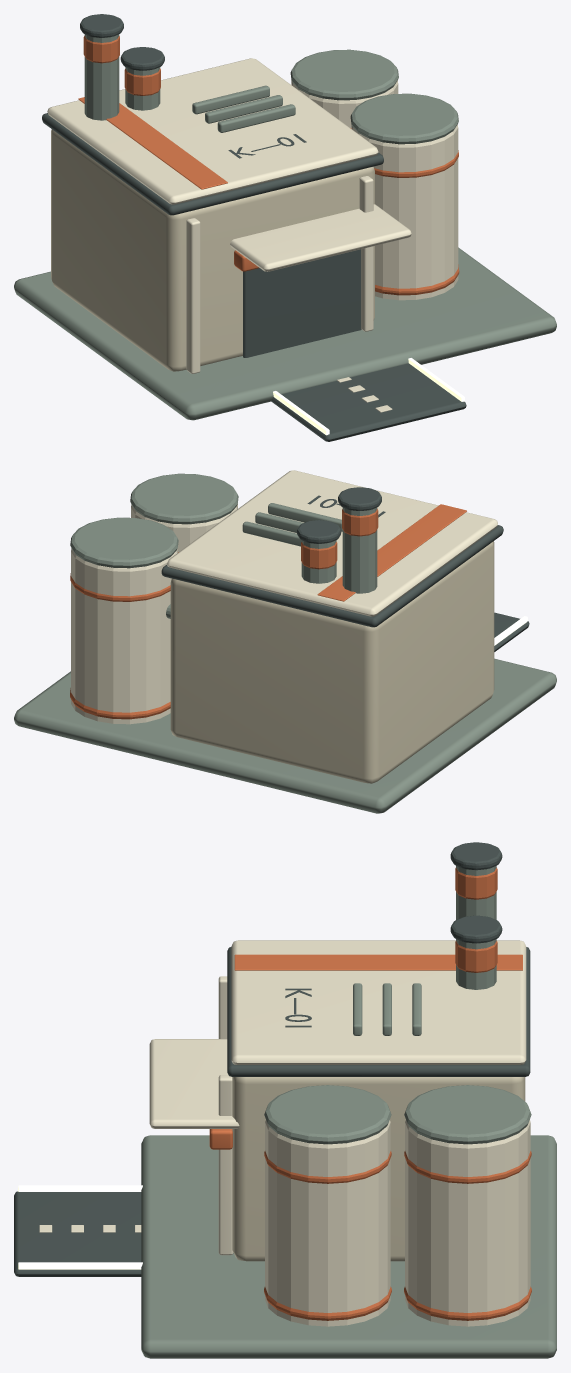
The model's file is refinery.glb.
The picture shows the model from 3 angles, top to bottom: view 1: azimuth 30°, elevation 25°; view 2: azimuth 150°, elevation 25°; view 3: azimuth 270°, elevation 25°; orthographic projection. The views are drawn at different scales.
Visible parts, largest first — view 1: ProcessingStructure; view 2: ProcessingStructure; view 3: ProcessingStructure.
Boxes of the visible parts, box(x1,y1,x2,y2) form: ProcessingStructure: box(14, 14, 556, 441); ProcessingStructure: box(14, 470, 556, 813); ProcessingStructure: box(14, 842, 556, 1358).
Bounding box in the file's own units: 11.8 × 8.61 × 12.8.
